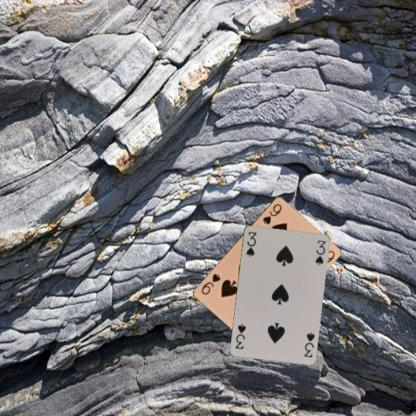3s: (243, 228, 258, 258), (301, 329, 316, 358)
9s: (260, 201, 283, 225)
